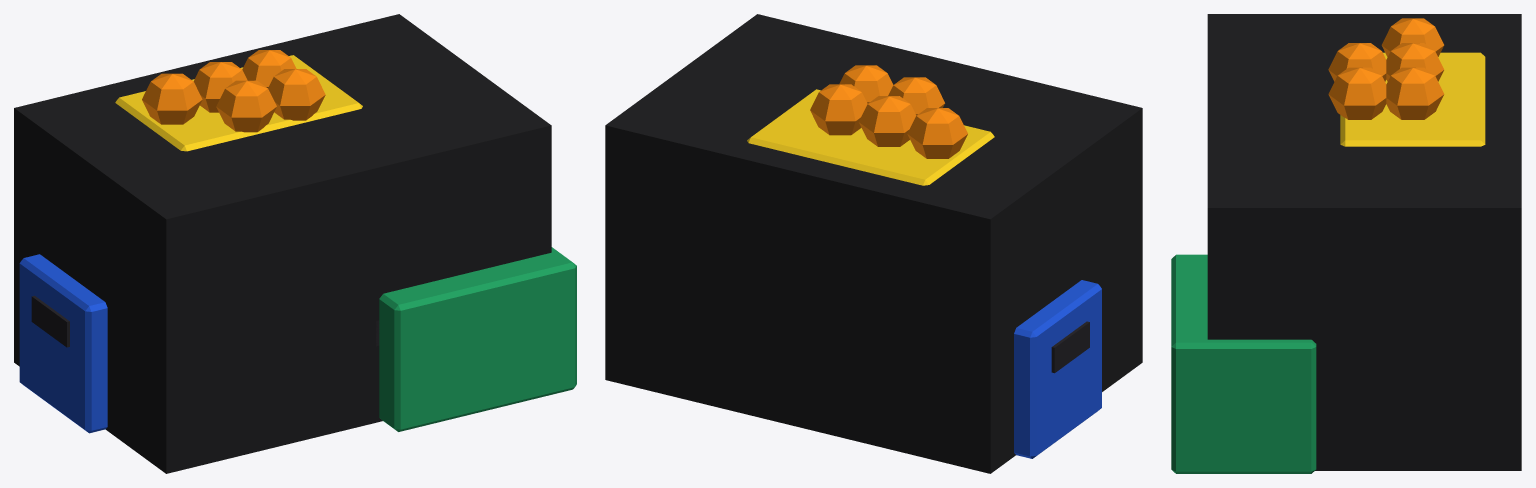
File: env_crate_stack.fbx
3 views of the same model, side by side, from view 1: azimuth 30°, elevation 25°; view 2: azimuth 150°, elevation 25°; view 3: azimuth 270°, elevation 25° (orthographic). The views are drawn at different scales.
Visible parts, largest first — view 1: COL_env_crate_stack, env_crate_stack_geo_LOD0; view 2: COL_env_crate_stack, env_crate_stack_geo_LOD0; view 3: COL_env_crate_stack, env_crate_stack_geo_LOD0.
Boxes of the visible parts, bbox=[...] form: COL_env_crate_stack: bbox=[14, 14, 551, 473]; env_crate_stack_geo_LOD0: bbox=[19, 50, 576, 433]; COL_env_crate_stack: bbox=[605, 14, 1142, 473]; env_crate_stack_geo_LOD0: bbox=[747, 65, 1101, 458]; COL_env_crate_stack: bbox=[1207, 14, 1521, 470]; env_crate_stack_geo_LOD0: bbox=[1171, 18, 1485, 473].
Size of what is drawn, in the model's own units: 2.06 by 1.42 by 1.45.
